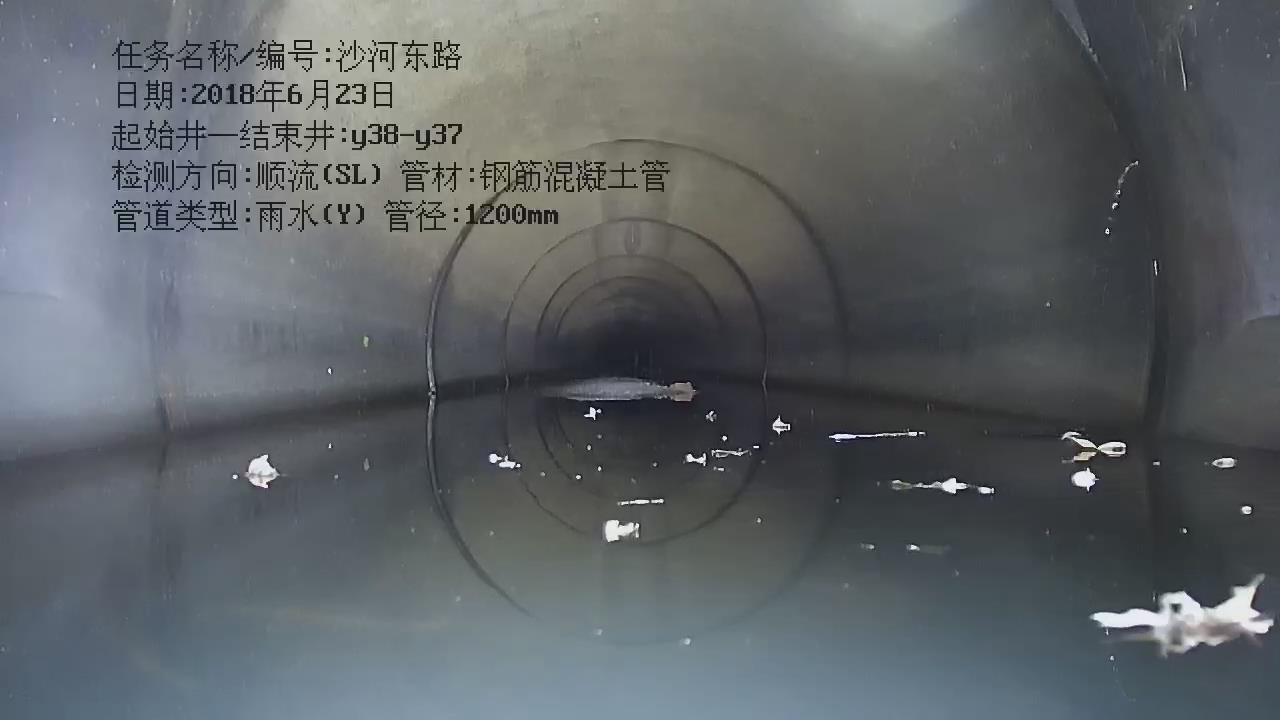SL: (1080, 140, 1159, 294)
